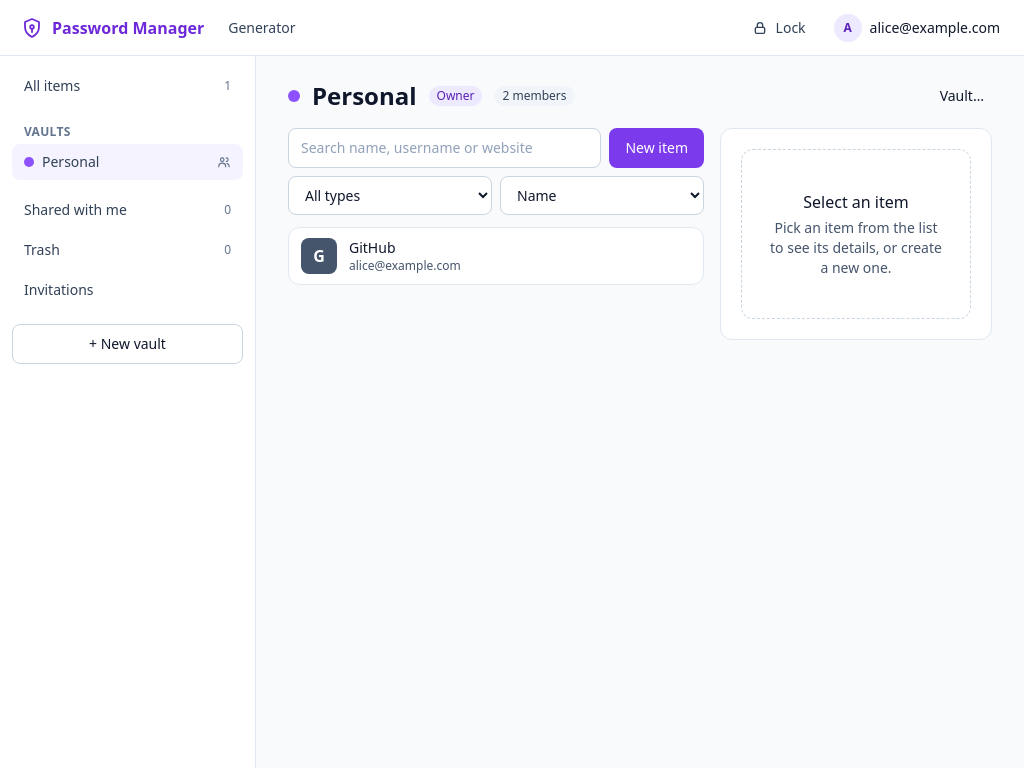
Scenario: share vault dialog › looks a person up by email and invites them with a sealed key
Expected: the heading "Personal" is shown, [312,80,416,112]
Click the button with aria-label "Vault menu": (962, 96) [932,80,992,112]
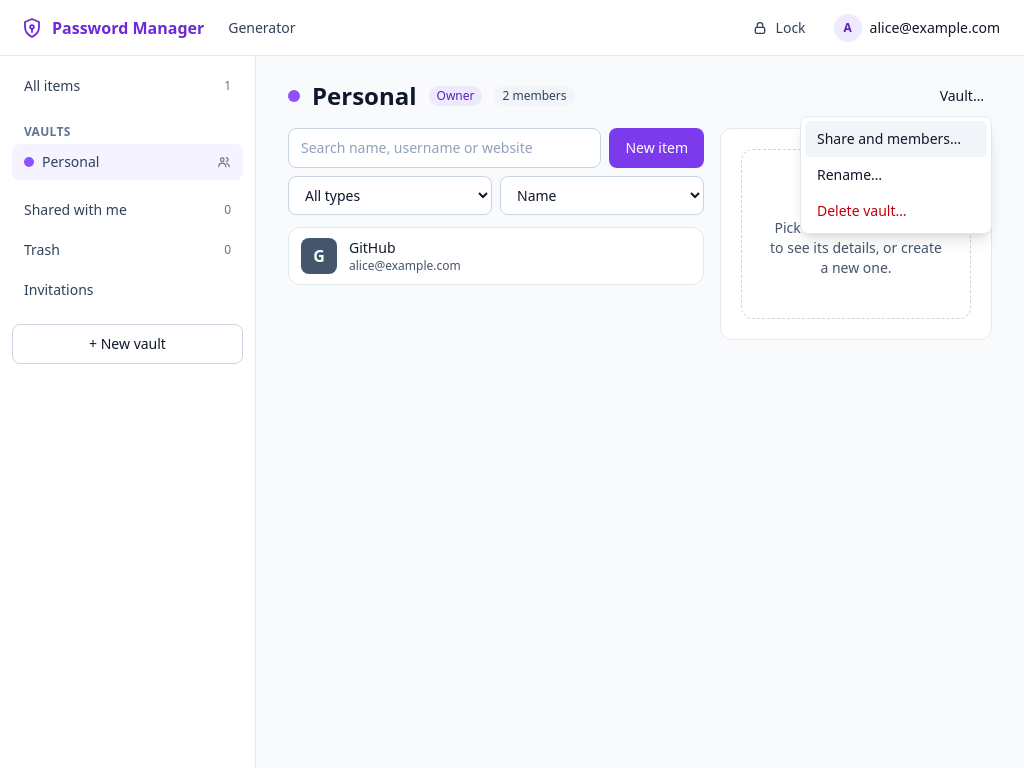
Click the menu item "Share and members…": (896, 139) [805,121,987,157]
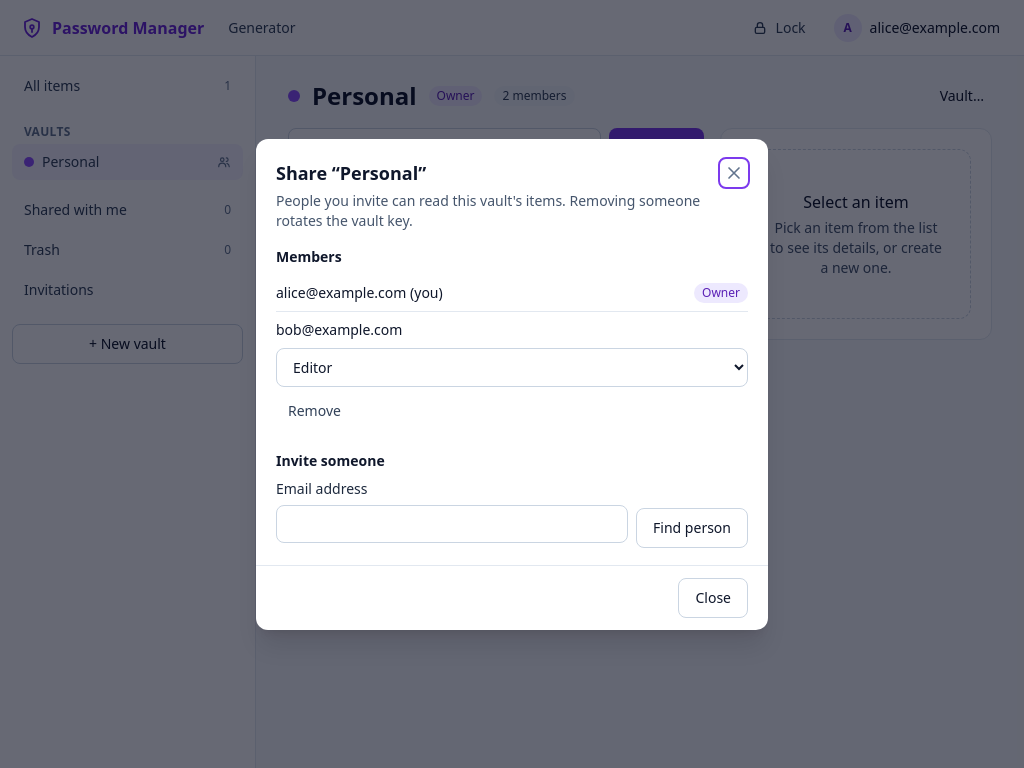
Now the text "bob@example.com" is shown, box [276,320,402,338]
In the field labelled "Email address": (452, 524) [276,504,628,542], type "Carol@Example.com"
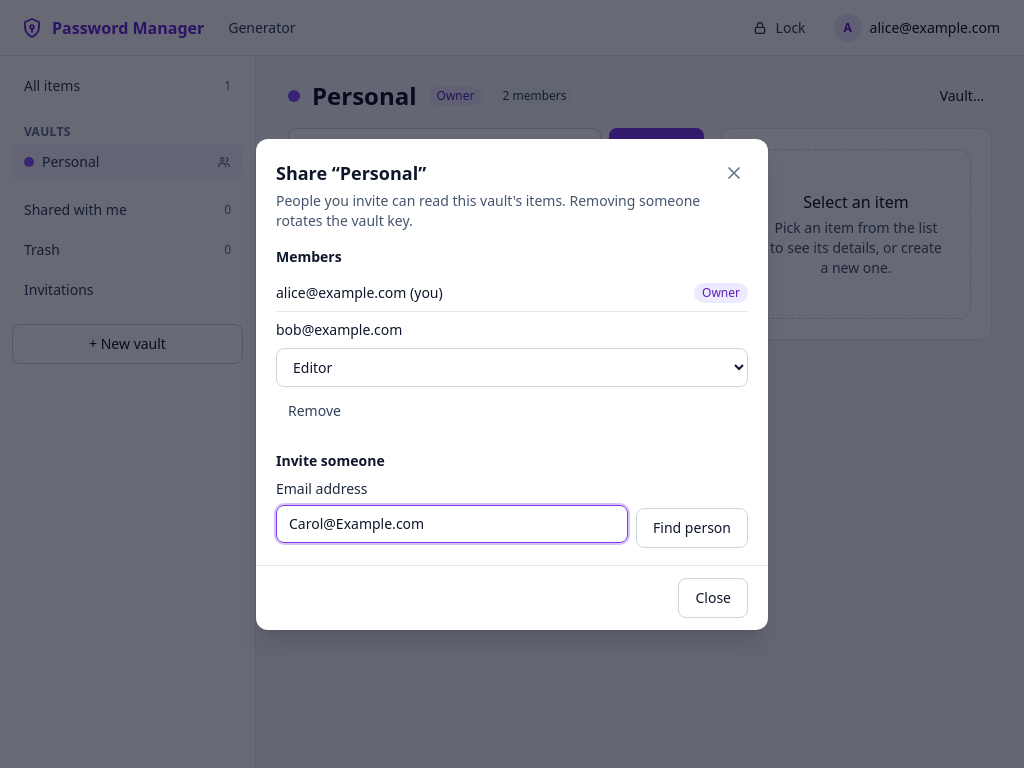
Click the button "Find person": (692, 528) [636,508,748,548]
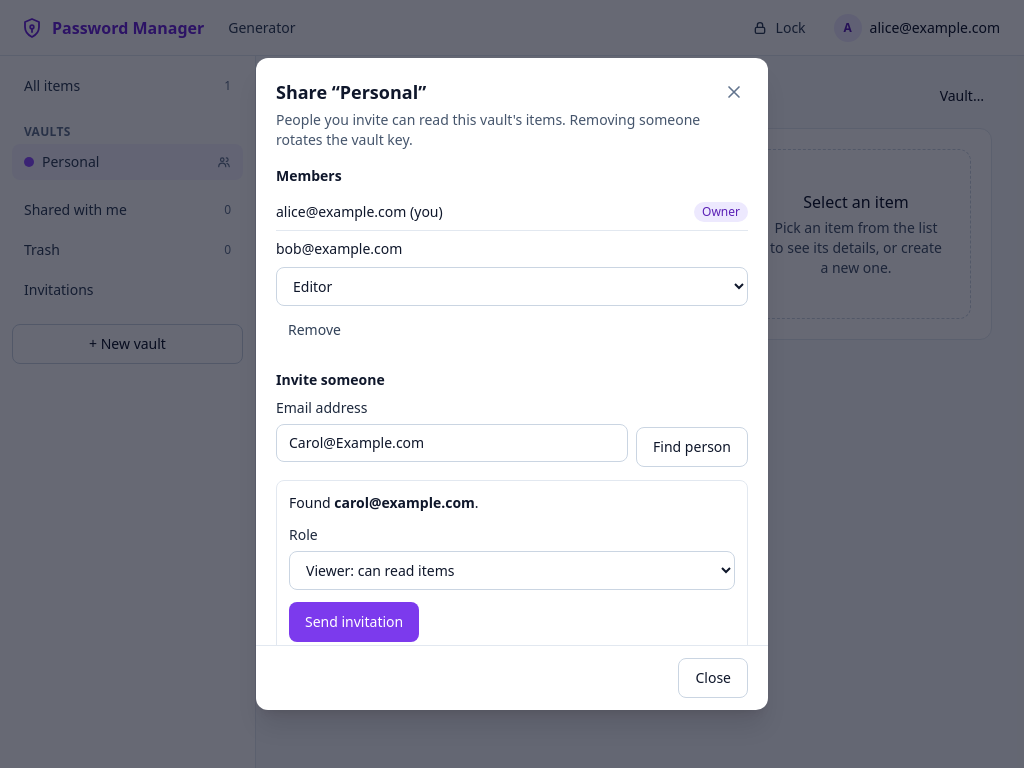
Now the text "carol@example.com" is shown, box [334,493,475,512]
Select "Viewer: can read items" in the dropdown labelled "Role": (512, 570) [289,551,735,590]
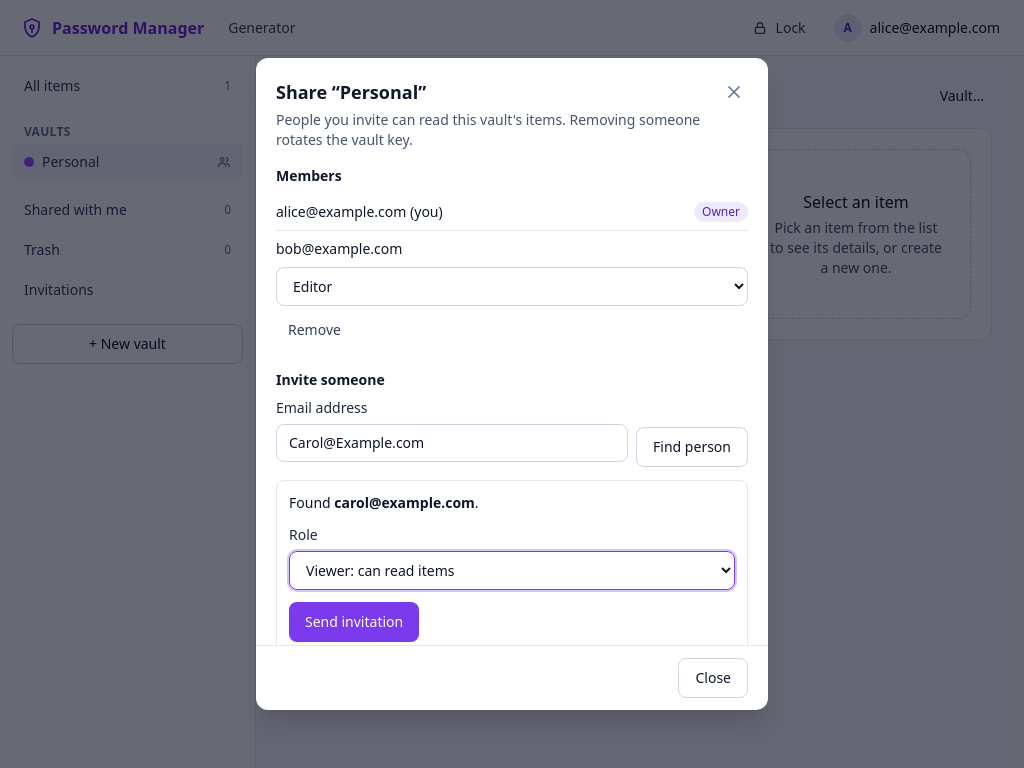
Click the button "Send invitation": (354, 622) [289,602,419,642]
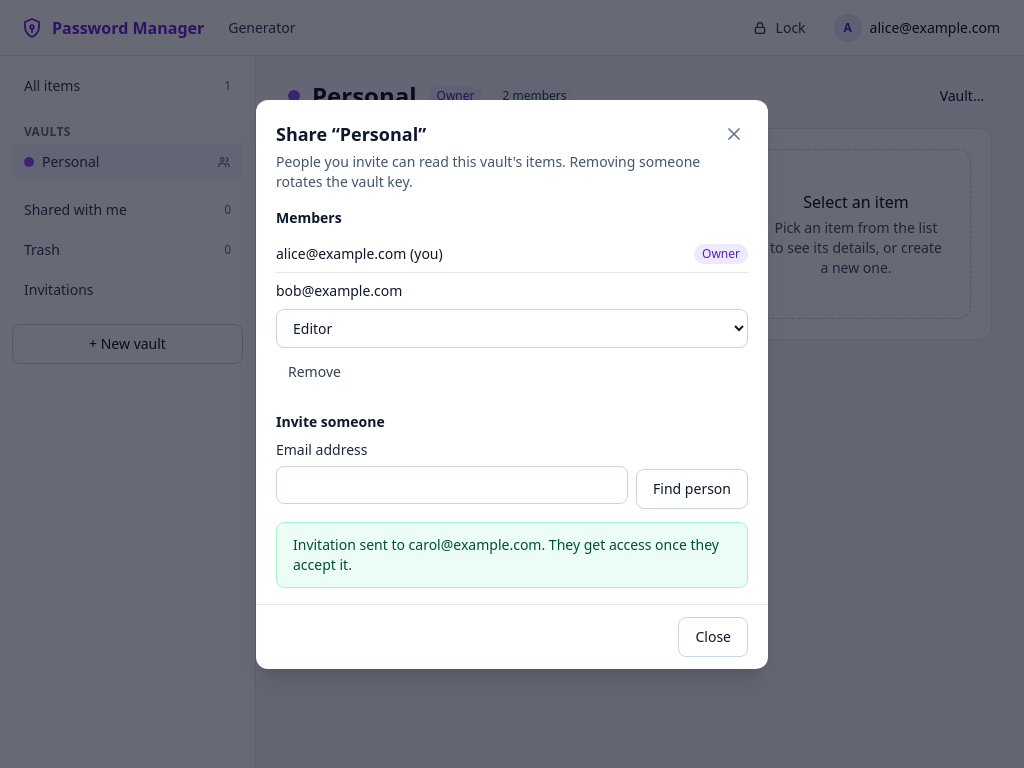
Now the text "Invitation sent to carol@example.com" is shown, box [293,534,731,574]
